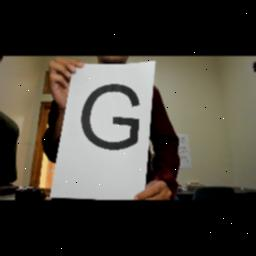g: (78, 81, 142, 153)
